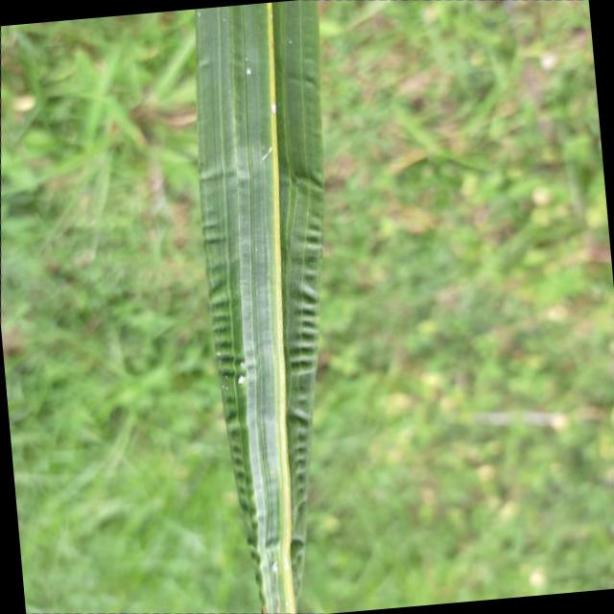Boron: (193, 0, 327, 610)
